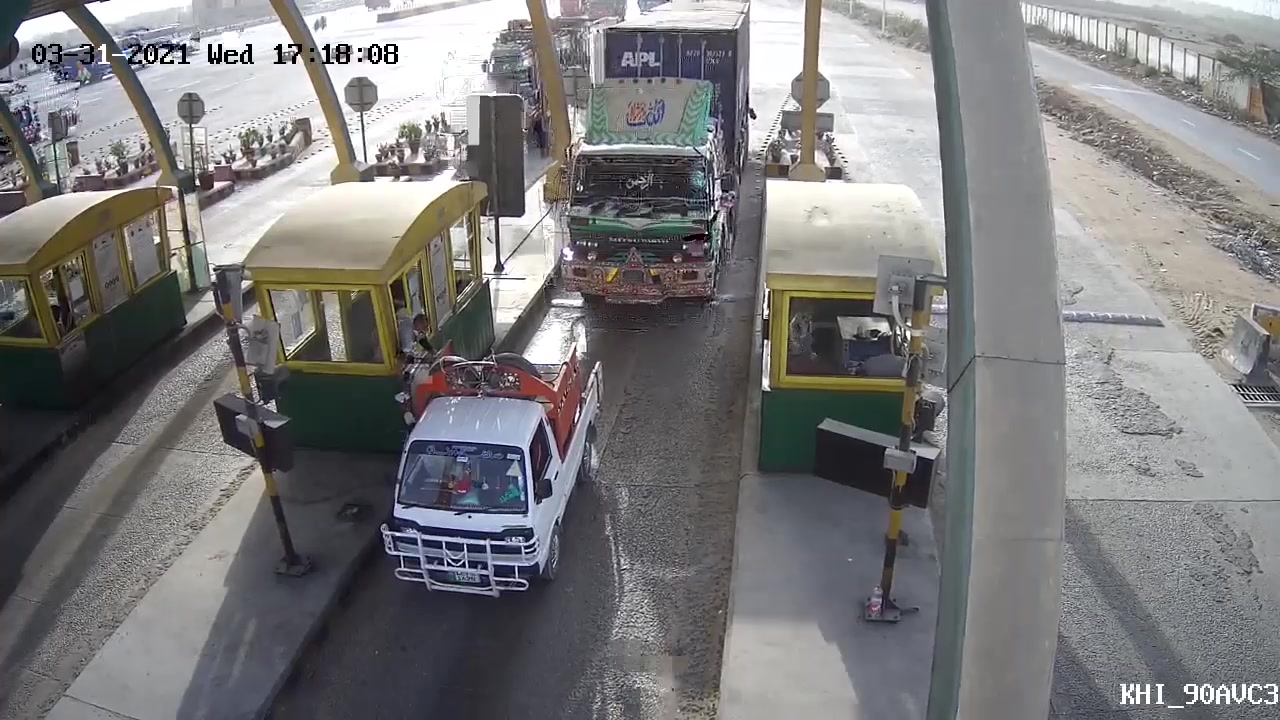F1: (379, 346, 607, 612)
F6: (553, 2, 758, 303)
